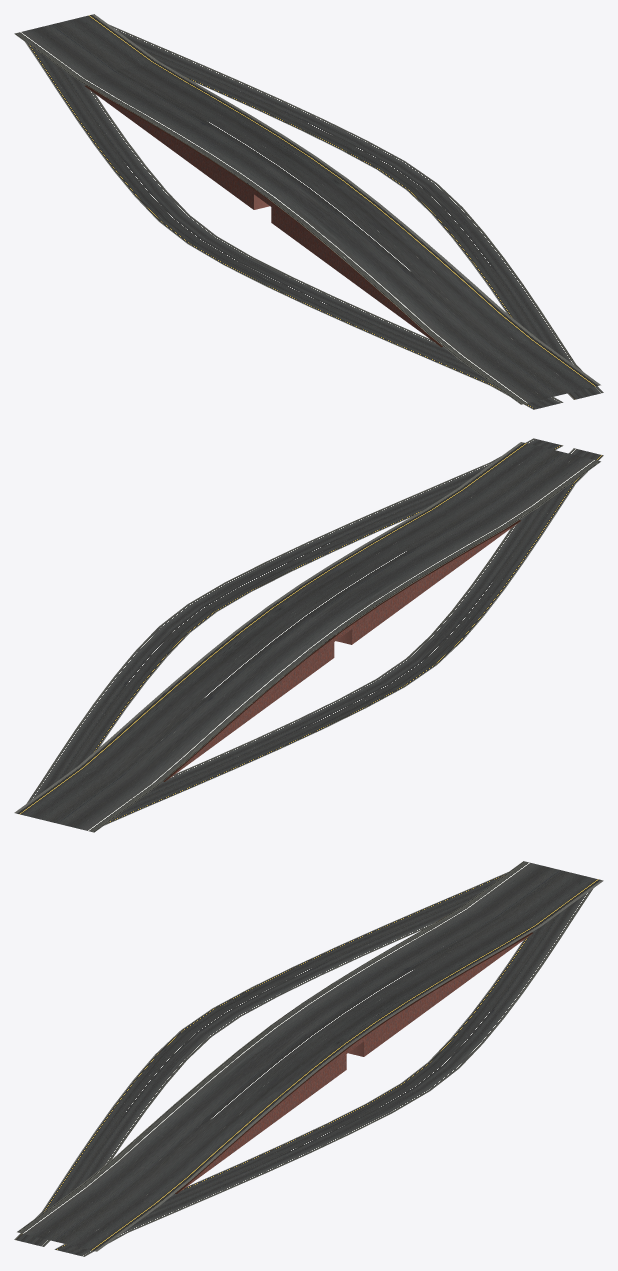
Rendered from Remake_Upper_Roads4.glb.
3 views of the same model, one above another, from view 1: azimuth 30°, elevation 25°; view 2: azimuth 150°, elevation 25°; view 3: azimuth 330°, elevation 25° (orthographic).
Visible parts, largest first — view 1: Plane.001, Plane, Plane.002, Under-Road-wall; view 2: Plane.001, Plane, Plane.002, Under-Road-wall; view 3: Plane.001, Plane.002, Plane, Under-Road-wall.
Boxes of the visible parts, x1=… form: Plane.001: x1=14, y1=14, x2=600, y2=404; Plane: x1=25, y1=42, x2=563, y2=409; Plane.002: x1=109, y1=24, x2=603, y2=399; Under-Road-wall: x1=85, y1=85, x2=442, y2=347; Plane.001: x1=14, y1=442, x2=600, y2=832; Plane: x1=104, y1=448, x2=603, y2=825; Plane.002: x1=26, y1=438, x2=563, y2=803; Under-Road-wall: x1=163, y1=520, x2=520, y2=781; Plane.001: x1=17, y1=861, x2=603, y2=1251; Plane.002: x1=54, y1=888, x2=593, y2=1256; Plane: x1=14, y1=872, x2=507, y2=1246; Under-Road-wall: x1=175, y1=932, x2=532, y2=1193.
Bounding box in the file's own units: 49.65 × 4.13 × 177.
Materials: 3 (3 with a texture image).
